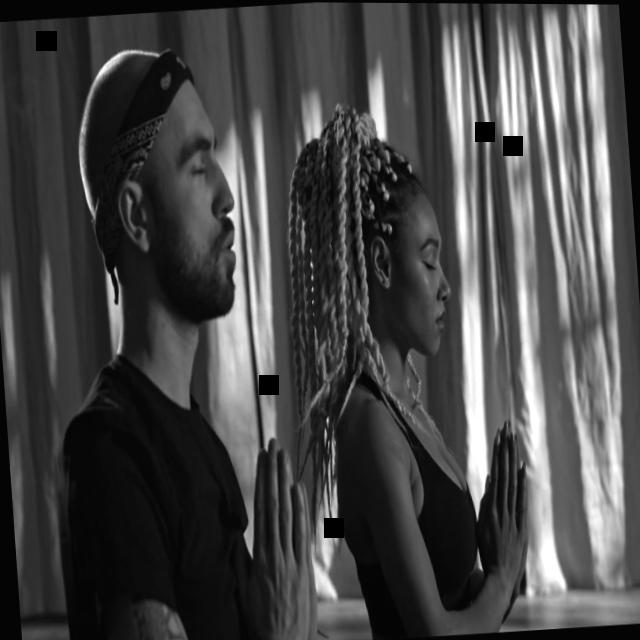NO-Mask: (134, 96, 243, 328), (378, 187, 456, 358)
